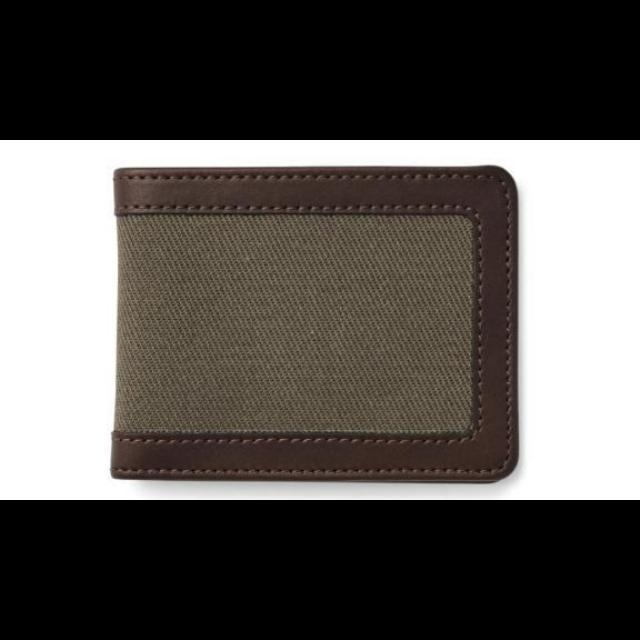wallet: (107, 160, 523, 482)
